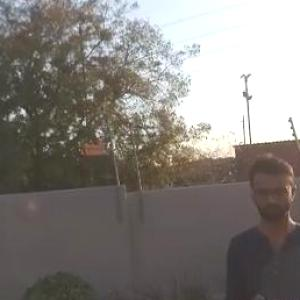follow: (220, 149, 300, 299)
